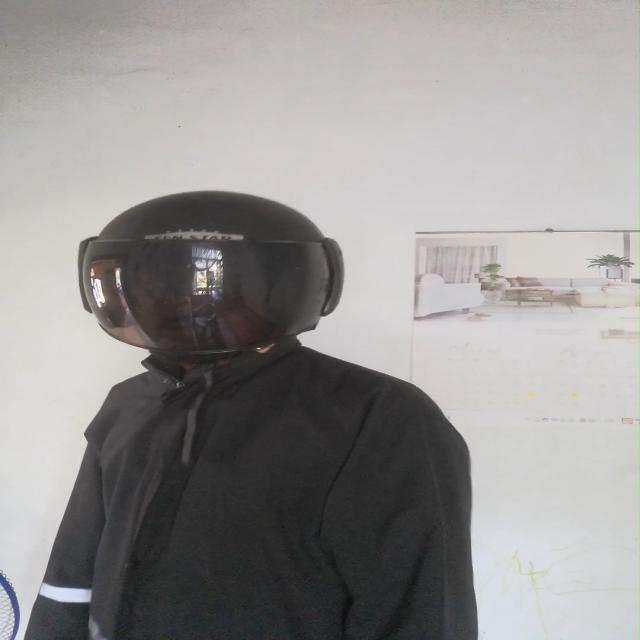Helmet_Wearer: (56, 180, 348, 375)
Jacket_Wearer: (28, 331, 502, 640)
Person: (34, 178, 477, 638)
